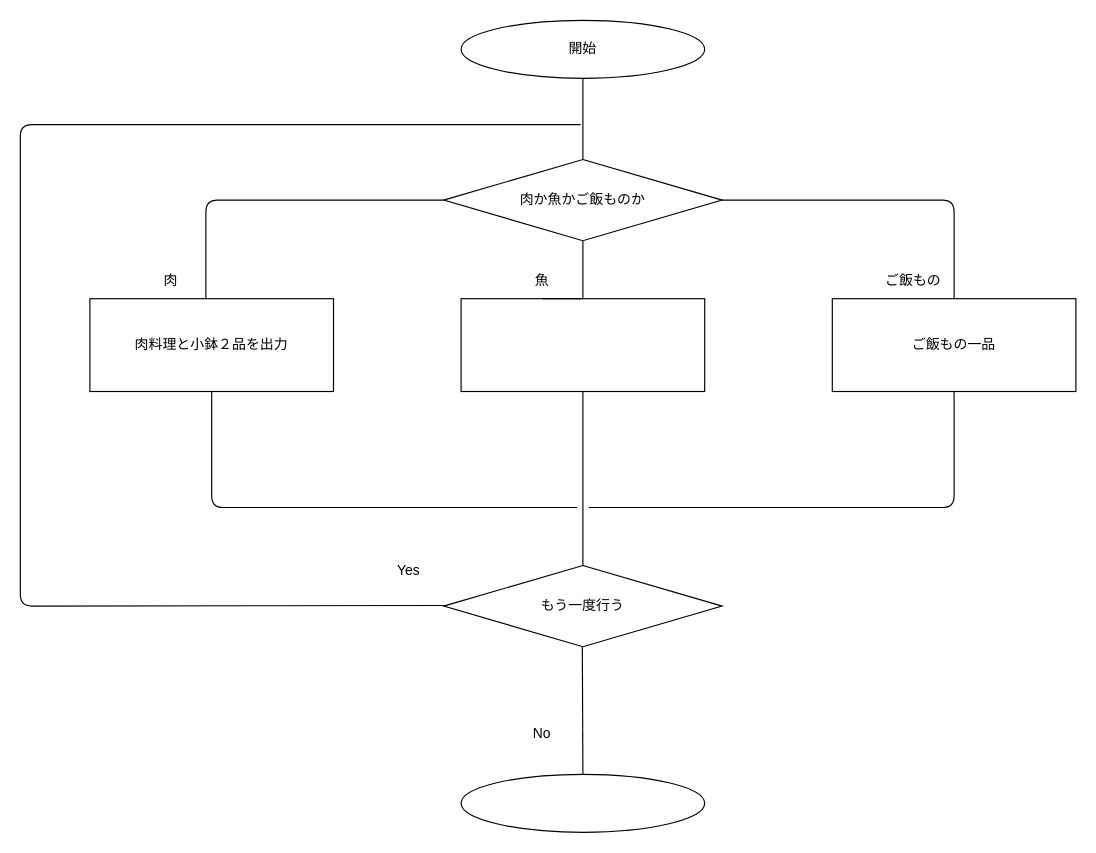
Some shapes in this 1096 by 853 pixel diagram are drawn without their labels. Here are the shapes that lost their labels. From the top down, the centre of each, then its label:
At (x=582, y=345): "魚料理と小鉢２品を出力".
At (x=582, y=802): "終了".
